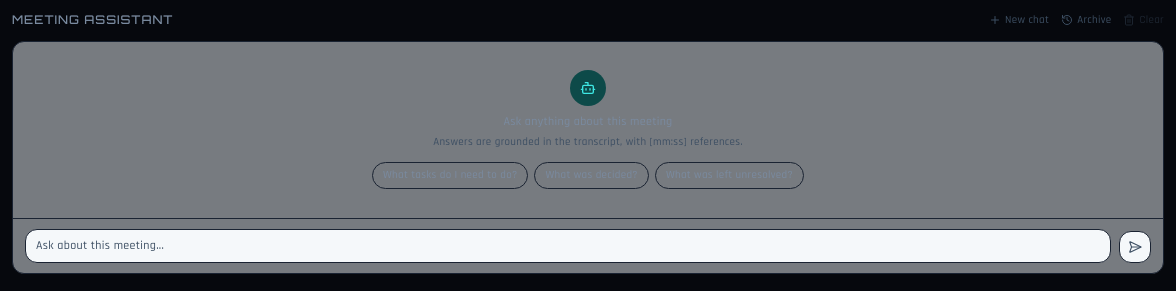
Scenario: LiveAssistantSection (post-meeting Q&A chat) › surfaces the no-model failure with actionable copy
Type "What did we decide?" into the text box labelled "Ask about this meeting" at (568, 246), box [25, 228, 1111, 262]
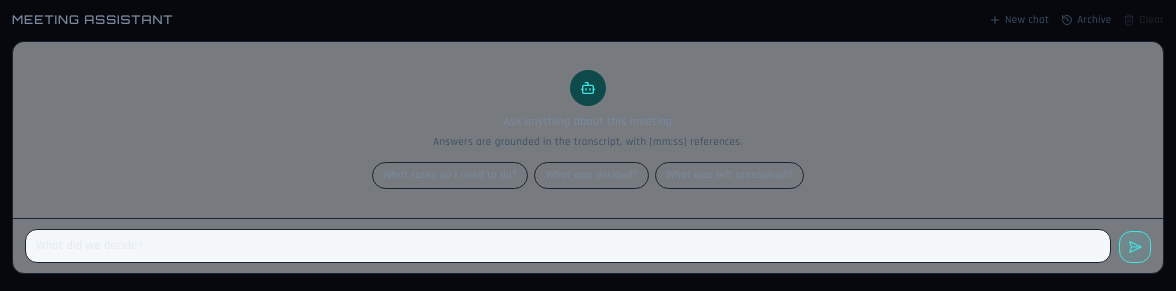
Click the button named "Send message" at (1135, 246), box [1119, 230, 1151, 262]
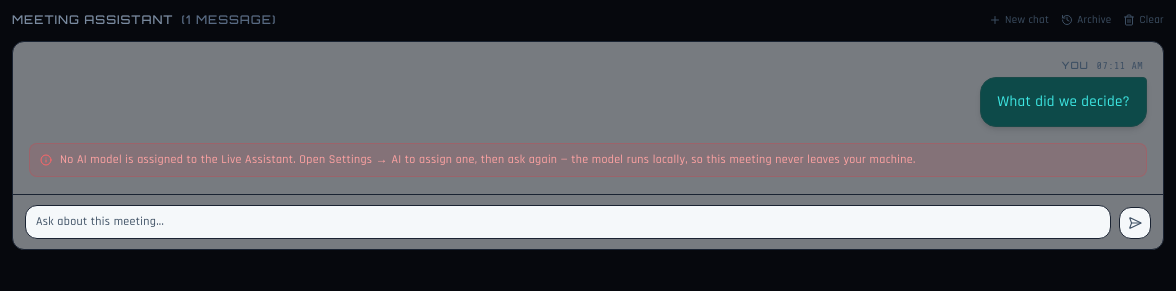
Check: the text box labelled "Ask about this meeting" is enabled, box [25, 205, 1111, 239]
Check: the text "Open Settings" is shown, box [60, 152, 916, 167]
